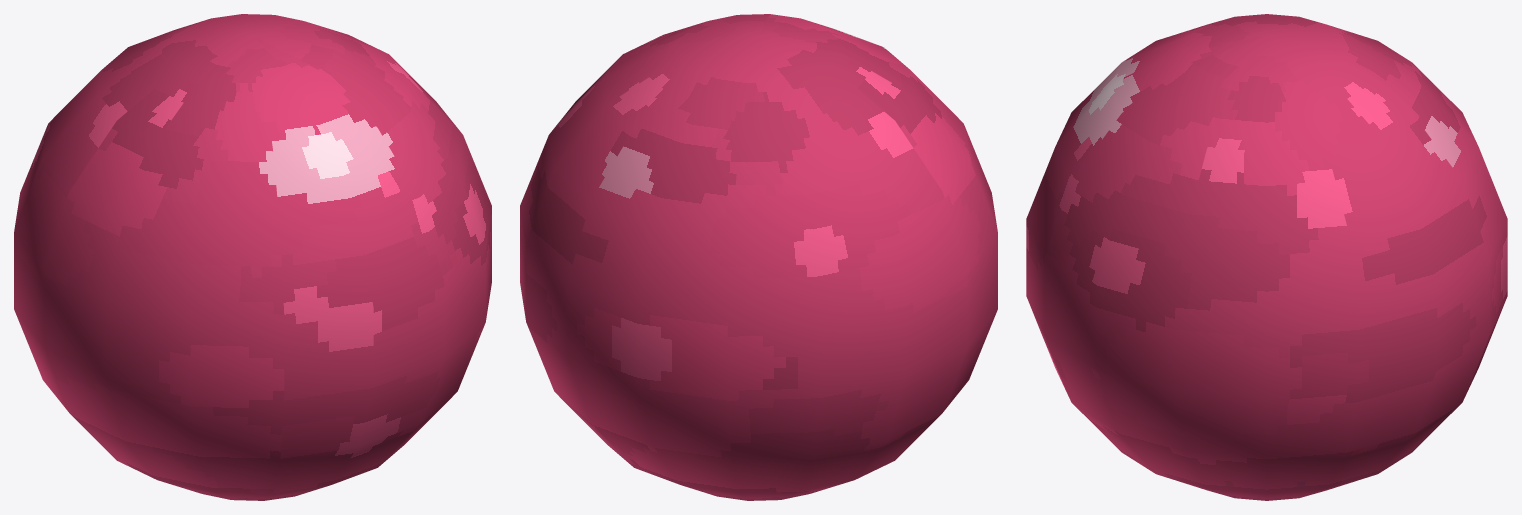
File: gumball.glb
3 renders of one model, left to right at view 1: azimuth 30°, elevation 25°; view 2: azimuth 150°, elevation 25°; view 3: azimuth 270°, elevation 25°, orthographic.
Parts seen in each view (by area): view 1: gumball; view 2: gumball; view 3: gumball.
Part boxes in pixels (<box>): gumball: <box>14,14,491,500</box>; gumball: <box>520,14,997,500</box>; gumball: <box>1026,14,1507,500</box>.
Bounding box in the file's own units: 0.0217 × 0.022 × 0.0217.
Materials: 1 (1 with a texture image).
